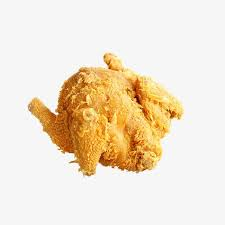Ayam goreng: (27, 51, 183, 177)
